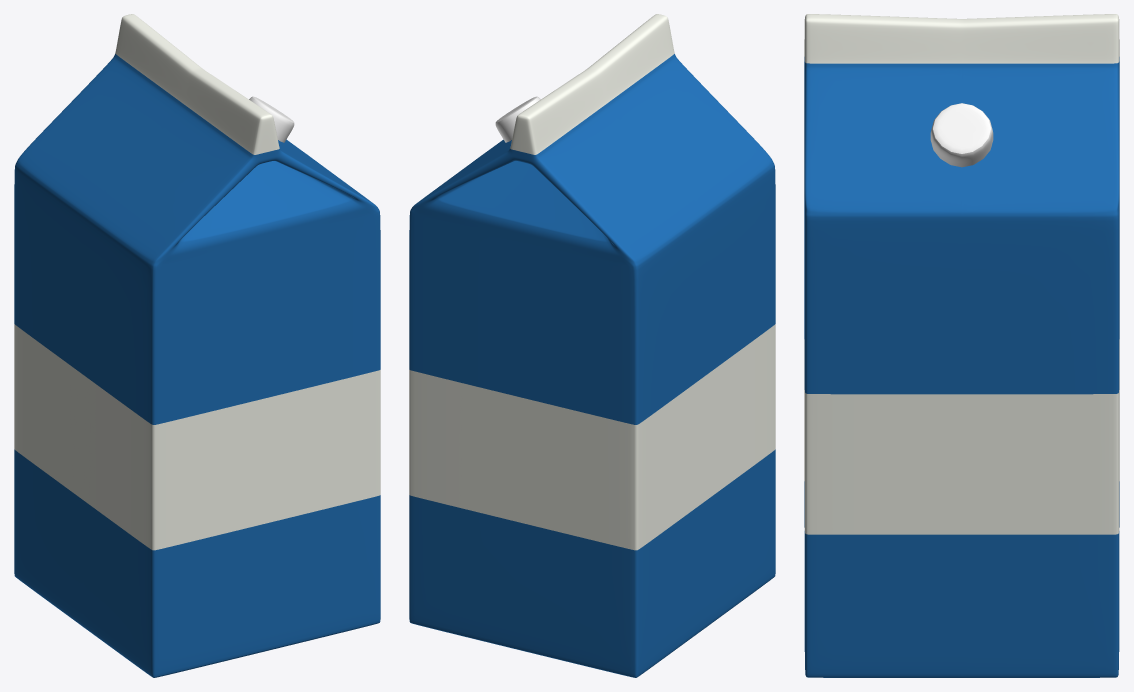
Rendered from CARTON.fbx.
3 views of the same model, side by side, from view 1: azimuth 30°, elevation 25°; view 2: azimuth 150°, elevation 25°; view 3: azimuth 270°, elevation 25° (orthographic). The views are drawn at different scales.
Visible parts, largest first — view 1: Cube.006; view 2: Cube.006; view 3: Cube.006.
Part boxes in pixels (box(x1,y1,x2,y2)): Cube.006: box(14, 14, 380, 677); Cube.006: box(409, 14, 775, 677); Cube.006: box(804, 14, 1119, 677).
Size of the model in its own units: 200 by 446 by 212.
